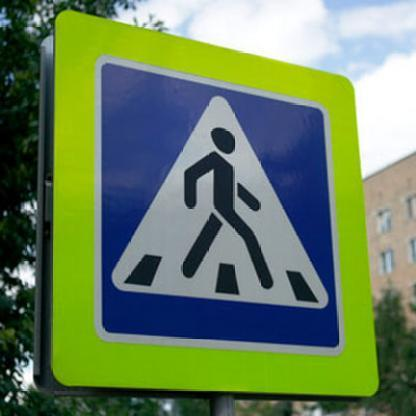road_sign: (34, 11, 378, 398)
